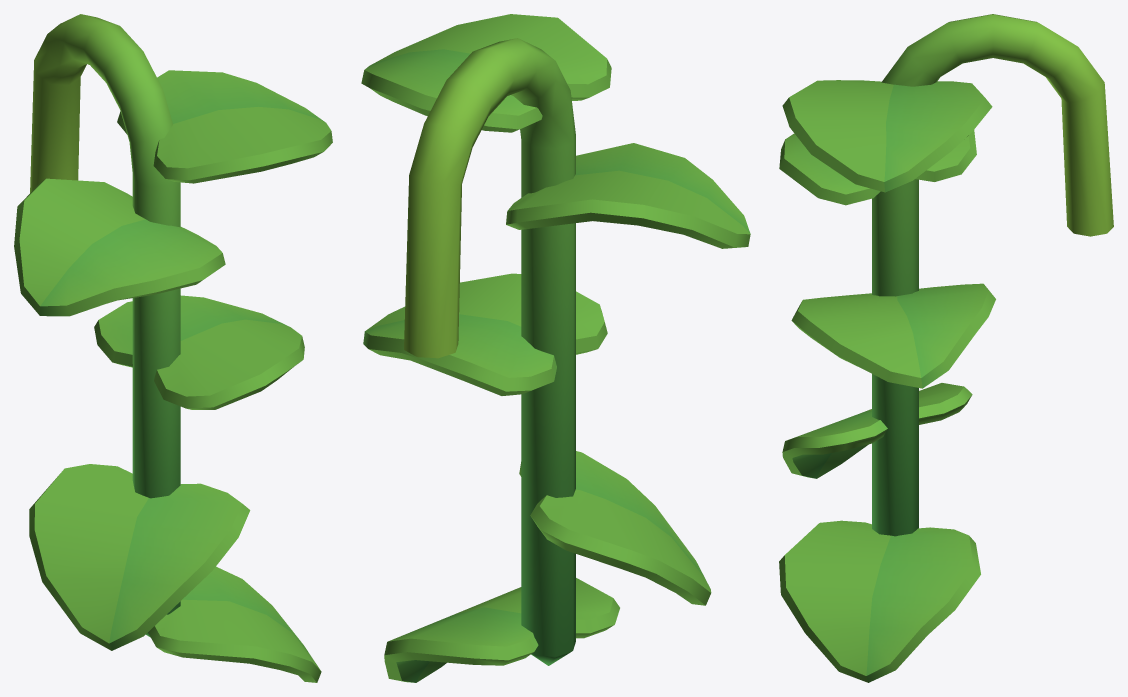
Rendered from house_plants_plants_pothos_vine_medium_b.glb.
3 renders of one model, left to right at view 1: azimuth 30°, elevation 25°; view 2: azimuth 150°, elevation 25°; view 3: azimuth 270°, elevation 25°, orthographic. The views are drawn at different scales.
Visible parts, largest first — view 1: pothos_vine_medium_B; view 2: pothos_vine_medium_B; view 3: pothos_vine_medium_B.
Part boxes in pixels (x1,y1,x2,y2): pothos_vine_medium_B: (14, 14, 332, 682); pothos_vine_medium_B: (361, 14, 750, 682); pothos_vine_medium_B: (779, 14, 1113, 682).
Bounding box in the file's own units: 0.5898 × 1.15 × 0.5781.
Materials: 1 (1 with a texture image).
